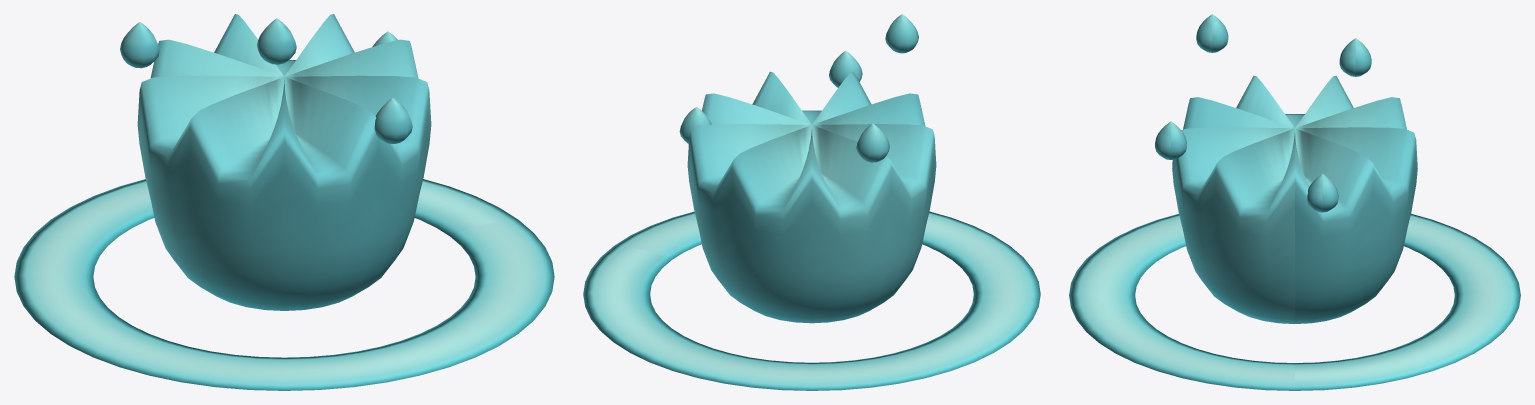
The model's file is SD_FX07_OasisSplash.fbx.
3 renders of one model, left to right at view 1: azimuth 30°, elevation 25°; view 2: azimuth 150°, elevation 25°; view 3: azimuth 270°, elevation 25°, orthographic. The views are drawn at different scales.
Parts seen in each view (by area): view 1: Crown, Ring, Droplet_02, Droplet_04, Droplet_03; view 2: Crown, Ring, Droplet_02, Droplet_04, Droplet_03, Droplet_01; view 3: Crown, Ring, Droplet_02, Droplet_04, Droplet_03, Droplet_01.
Boxes of the visible parts, box(x1,y1,x2,y2) form: Crown: box(137, 14, 431, 310); Ring: box(14, 179, 554, 390); Droplet_02: box(120, 22, 159, 68); Droplet_04: box(257, 18, 296, 64); Droplet_03: box(374, 98, 412, 143); Crown: box(687, 71, 936, 323); Ring: box(583, 211, 1040, 390); Droplet_02: box(856, 123, 889, 162); Droplet_04: box(885, 14, 918, 53); Droplet_03: box(829, 50, 862, 87); Droplet_01: box(679, 107, 711, 143); Crown: box(1172, 75, 1417, 323); Ring: box(1069, 213, 1520, 390); Droplet_02: box(1339, 38, 1371, 76); Droplet_04: box(1196, 14, 1228, 52); Droplet_03: box(1155, 121, 1186, 159); Droplet_01: box(1307, 173, 1338, 212).
Bounding box in the file's own units: 1.64 × 1.05 × 1.64.
